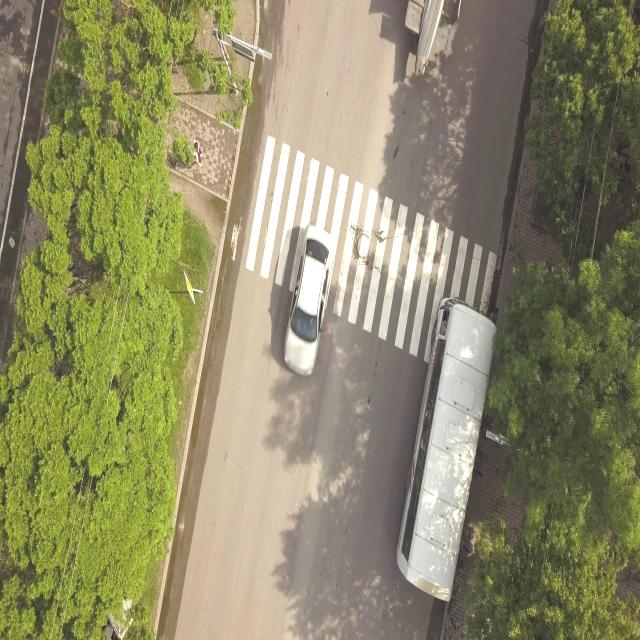Bus: (394, 290, 501, 610)
Car: (279, 223, 337, 379)
